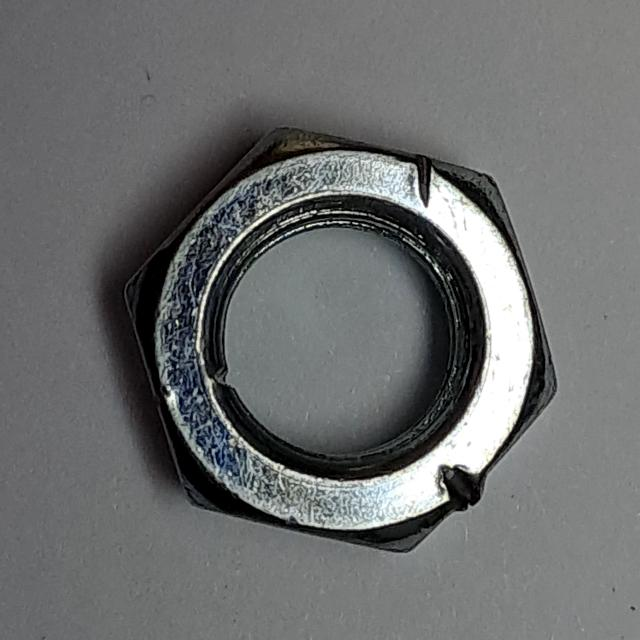Scratches: (111, 115, 570, 568)
